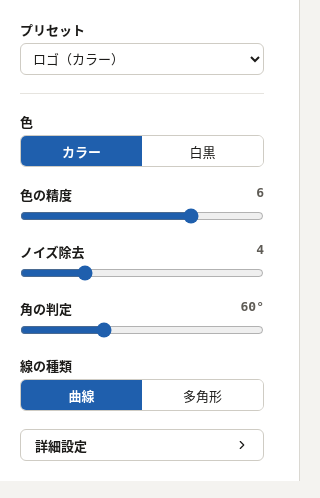
it: ParamsPanel › switches preset to 'カスタム' when a value is changed
Expected: the dropdown labelled "プリセット" shows "ロゴ（カラー）", [20,43,264,75]
Set the slider labelled "角の判定 60°" to "90": [142, 330] box [20,322,264,338]
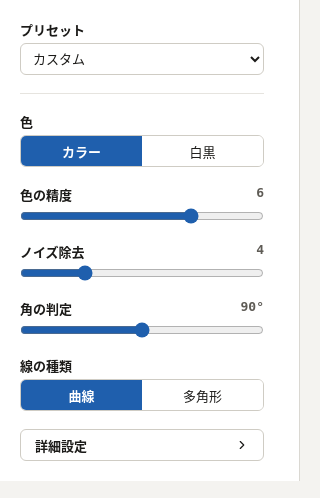
Expected: the dropdown labelled "プリセット" shows "カスタム", [20,43,264,75]
